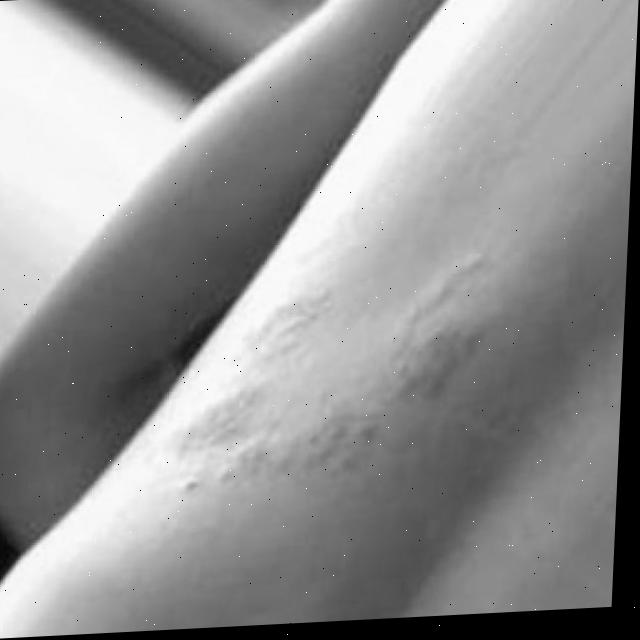Shingles: (163, 263, 531, 495)
